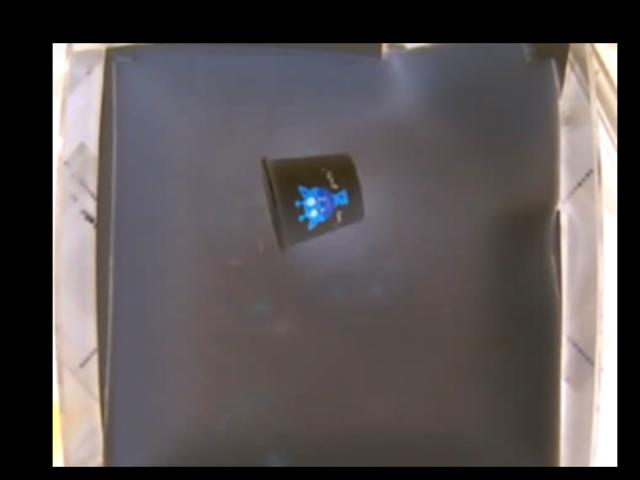Cup: (258, 149, 362, 250)
